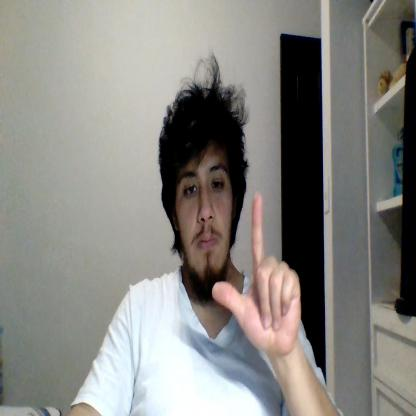L: (211, 191, 301, 352)
